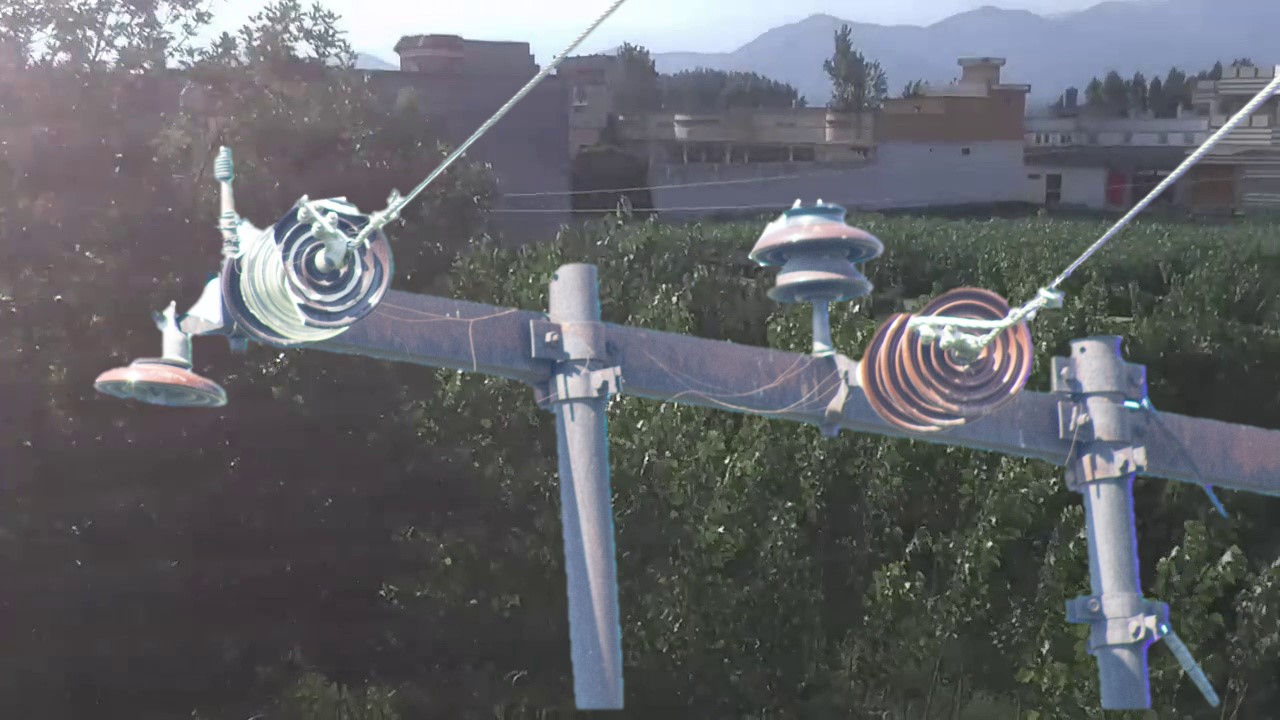defect_disc: (273, 197, 399, 336)
insulator_disc: (898, 280, 1038, 420), (92, 341, 233, 418)
